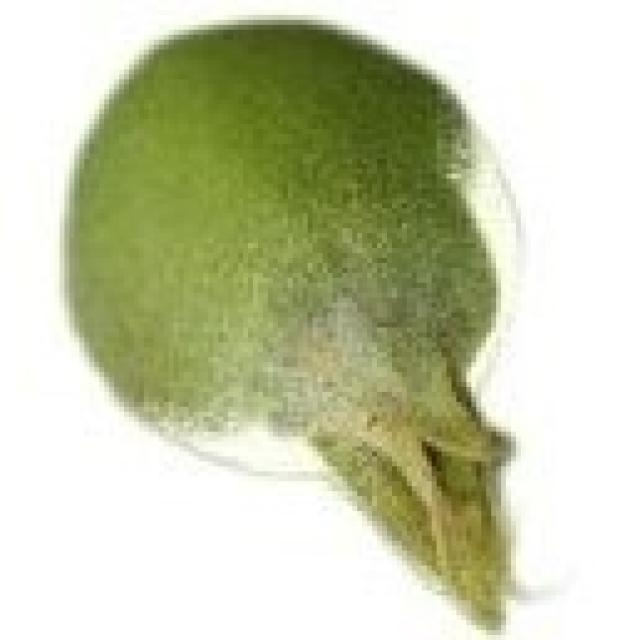20-_ripeness: (68, 18, 550, 625)
